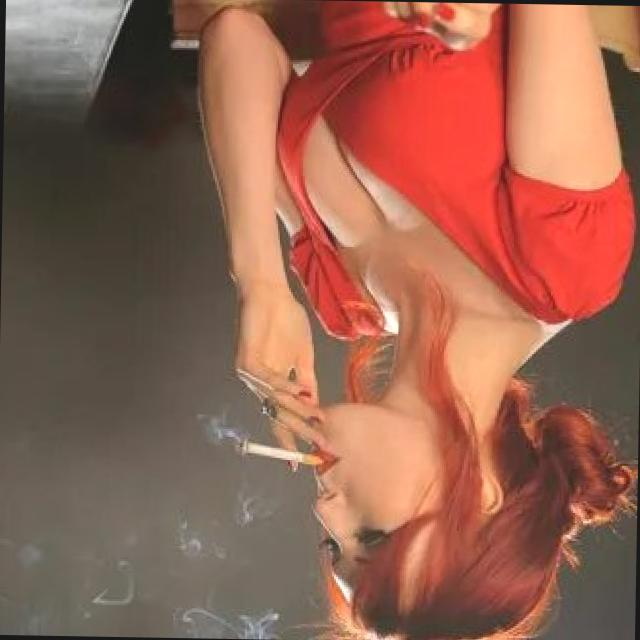smoke: (233, 434, 328, 470)
